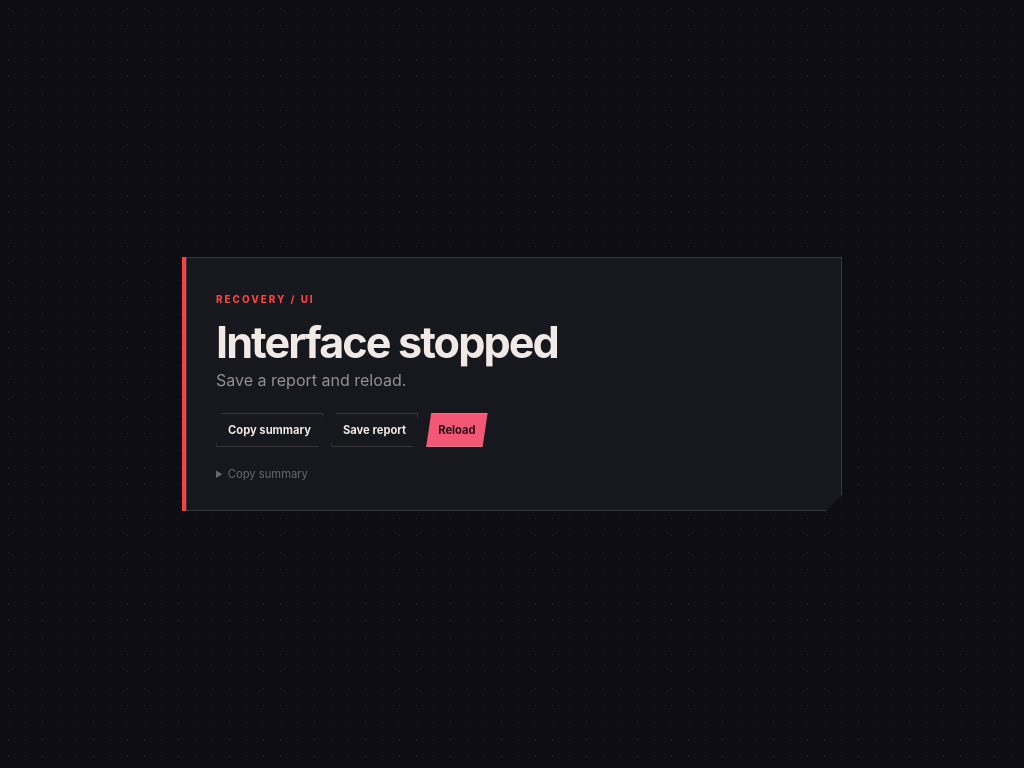
it: diagnostic recovery › records a render failure and keeps copy, save, and reload recovery available
Check: the heading "Interface stopped" is shown, box [216,316,558,368]
Click the button "Save report".
click(375, 430)  # box [331,413,418,447]
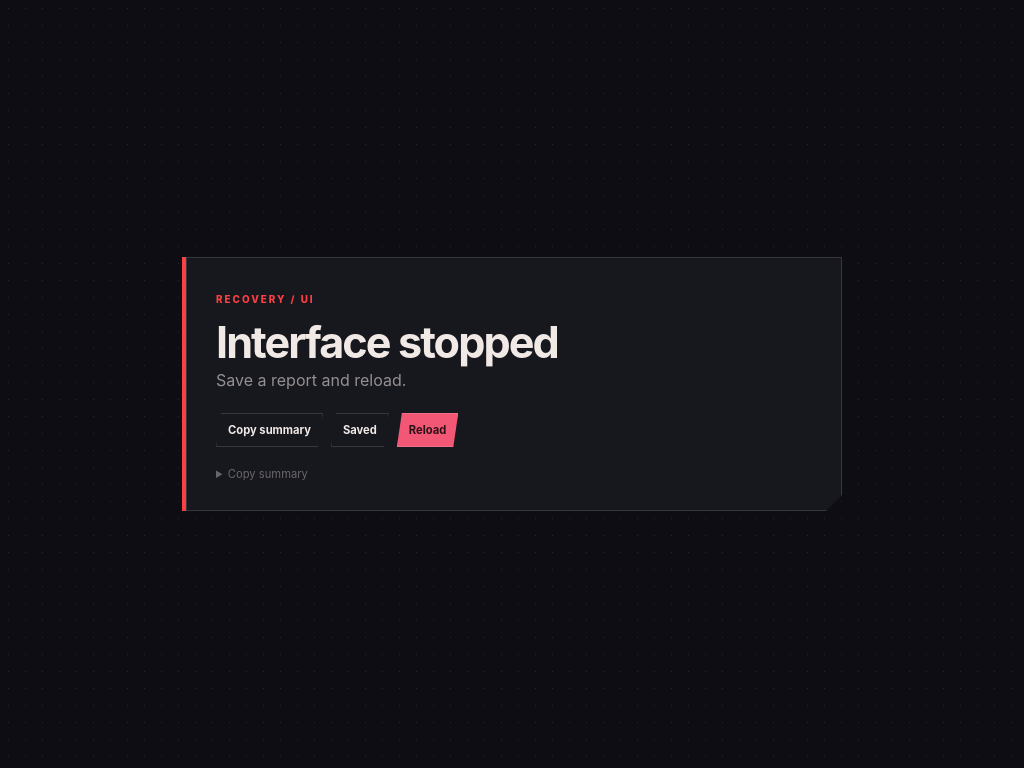
Check: the button "Reload" is shown, box [397,413,458,447]
Check: the button "Saved" is shown, box [331,413,389,447]
